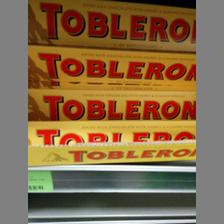Schokolade: (27, 0, 195, 48), (27, 44, 195, 88), (28, 87, 196, 121), (28, 119, 196, 149)
